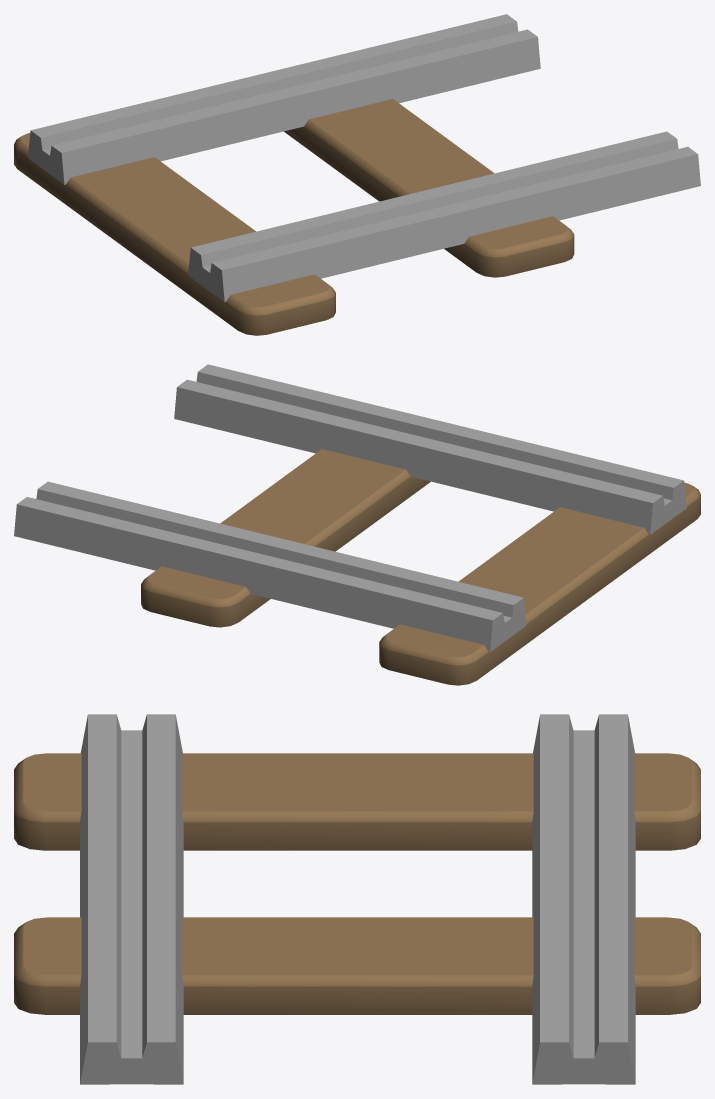
The model's file is OB_Rails.fbx.
3 views of the same model, one above another, from view 1: azimuth 30°, elevation 25°; view 2: azimuth 150°, elevation 25°; view 3: azimuth 270°, elevation 25° (orthographic). The views are drawn at different scales.
Parts seen in each view (by area): view 1: OB_Sleepers, OB_Rails; view 2: OB_Sleepers, OB_Rails; view 3: OB_Rails, OB_Sleepers.
Part boxes in pixels (box(x1,y1,x2,y2)): OB_Sleepers: box(28, 14, 700, 301); OB_Rails: box(14, 99, 574, 335); OB_Sleepers: box(14, 364, 686, 652); OB_Rails: box(141, 449, 700, 685); OB_Rails: box(14, 753, 700, 1014); OB_Sleepers: box(80, 714, 635, 1084).
Size of the model in its own units: 200 by 20.01 by 177.
